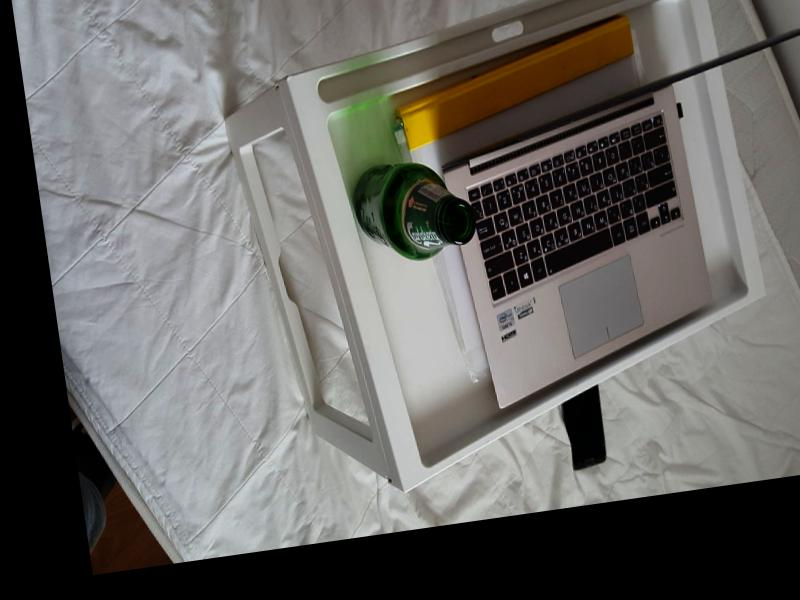Beer: (347, 153, 478, 269)
